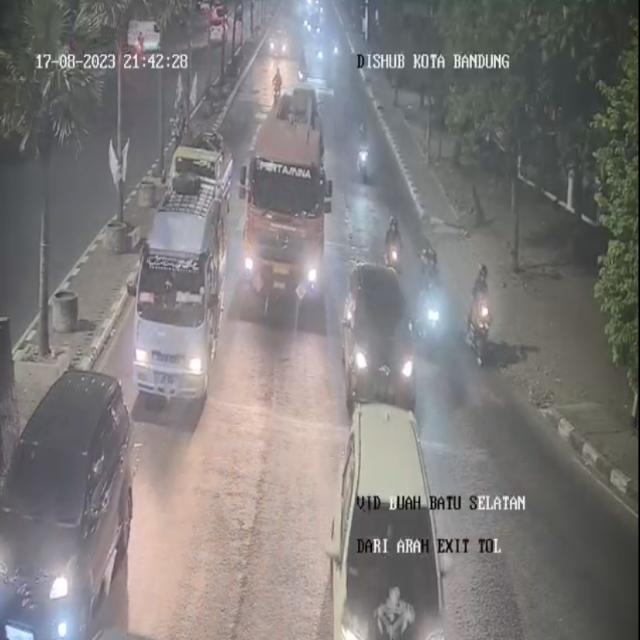cars: (0, 368, 135, 640), (338, 400, 449, 639), (134, 152, 231, 414), (344, 258, 418, 415), (270, 22, 290, 58)
motorcycle: (465, 256, 497, 367), (418, 240, 449, 352), (382, 208, 404, 279), (353, 121, 374, 187), (270, 62, 286, 107)
truck: (241, 114, 327, 311)
